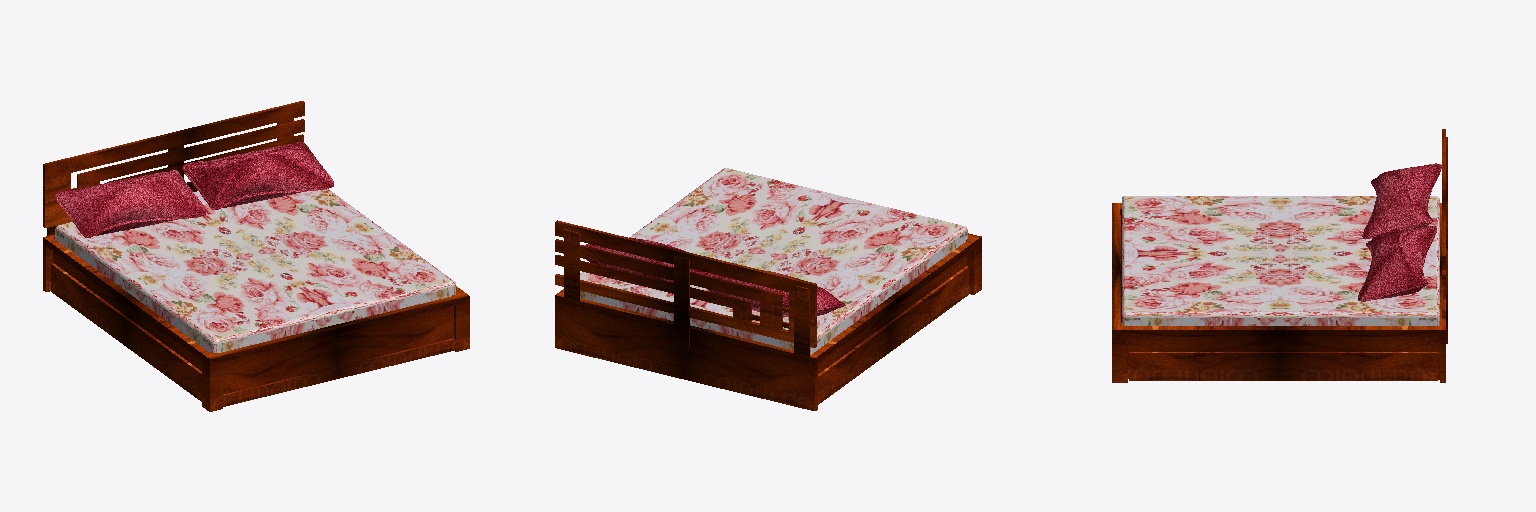
3 views of the same model, side by side, from view 1: azimuth 30°, elevation 25°; view 2: azimuth 150°, elevation 25°; view 3: azimuth 270°, elevation 25° (orthographic).
Visible parts, largest first — view 1: Mesh27 ChamferBox1 Model, Mesh16 Box005_1 Model, Mesh26 RPS_Light Box03328_1 Model, Mesh25 Box033_1 Model, Mesh10 Box020_1 Model, Mesh8 Box01213_1 Model, Mesh11 Box022_1 Model, Mesh17 Box004_1 Model, Mesh6 Box001_1 Model, Mesh14 Box007_1 Model, Mesh20 Box011_1 Model, Mesh19 Box002_1 Model (+2 smaller); view 2: Mesh27 ChamferBox1 Model, Mesh7 Box008_1 Model, Mesh10 Box020_1 Model, Mesh8 Box01213_1 Model, Mesh11 Box022_1 Model, Mesh14 Box007_1 Model, Mesh12 Box025_1 Model, Mesh20 Box011_1 Model, Mesh1 Box027_1 Model, Mesh3 Box028_1 Model, Mesh2 Box026_1 Model, Mesh26 RPS_Light Box03328_1 Model (+2 smaller); view 3: Mesh27 ChamferBox1 Model, Mesh15 Box012_1 Model, Mesh18 Box01111_1 Model, Mesh25 Box033_1 Model, Mesh26 RPS_Light Box03328_1 Model, Mesh9 Box009_1 Model, Mesh6 Box001_1 Model, Mesh13 Box003_1 Model, Mesh10 Box020_1 Model, Mesh7 Box008_1 Model.
Boxes of the visible parts, x1,y1,x2,y2 form: Mesh27 ChamferBox1 Model: [55, 189, 455, 352]; Mesh16 Box005_1 Model: [223, 306, 453, 394]; Mesh26 RPS_Light Box03328_1 Model: [55, 170, 206, 237]; Mesh25 Box033_1 Model: [182, 142, 333, 209]; Mesh10 Box020_1 Model: [43, 101, 304, 227]; Mesh8 Box01213_1 Model: [51, 263, 201, 401]; Mesh11 Box022_1 Model: [77, 119, 304, 188]; Mesh17 Box004_1 Model: [223, 339, 455, 406]; Mesh6 Box001_1 Model: [214, 293, 467, 361]; Mesh14 Box007_1 Model: [46, 238, 207, 359]; Mesh20 Box011_1 Model: [53, 252, 201, 370]; Mesh19 Box002_1 Model: [202, 352, 222, 411]; Mesh27 ChamferBox1 Model: [580, 168, 967, 354]; Mesh7 Box008_1 Model: [555, 293, 817, 410]; Mesh10 Box020_1 Model: [555, 220, 816, 347]; Mesh8 Box01213_1 Model: [818, 266, 968, 404]; Mesh11 Box022_1 Model: [555, 239, 782, 329]; Mesh14 Box007_1 Model: [812, 241, 973, 362]; Mesh12 Box025_1 Model: [555, 255, 751, 329]; Mesh20 Box011_1 Model: [818, 255, 966, 373]; Mesh1 Box027_1 Model: [674, 256, 689, 346]; Mesh3 Box028_1 Model: [564, 229, 579, 319]; Mesh2 Box026_1 Model: [794, 286, 809, 376]; Mesh26 RPS_Light Box03328_1 Model: [708, 270, 845, 316]; Mesh27 ChamferBox1 Model: [1122, 196, 1439, 325]; Mesh15 Box012_1 Model: [1129, 352, 1437, 380]; Mesh18 Box01111_1 Model: [1128, 337, 1439, 351]; Mesh25 Box033_1 Model: [1358, 226, 1436, 301]; Mesh26 RPS_Light Box03328_1 Model: [1362, 163, 1441, 238]; Mesh9 Box009_1 Model: [1128, 326, 1439, 336]; Mesh6 Box001_1 Model: [1112, 209, 1119, 328]; Mesh13 Box003_1 Model: [1112, 323, 1127, 382]; Mesh10 Box020_1 Model: [1442, 129, 1445, 318]; Mesh7 Box008_1 Model: [1440, 203, 1445, 382].
Bounding box in the file's own units: 7700 × 3576 × 8596.
3 materials, 3 textured.